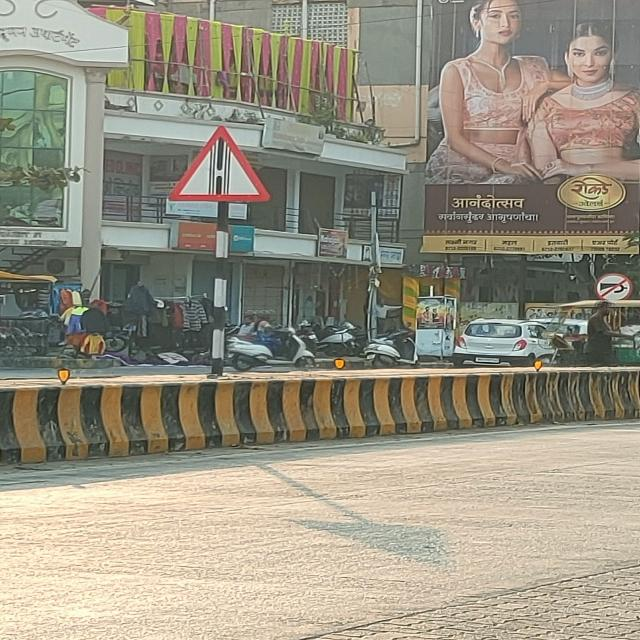GAP_IN_MEDIAN: (169, 126, 271, 202)
